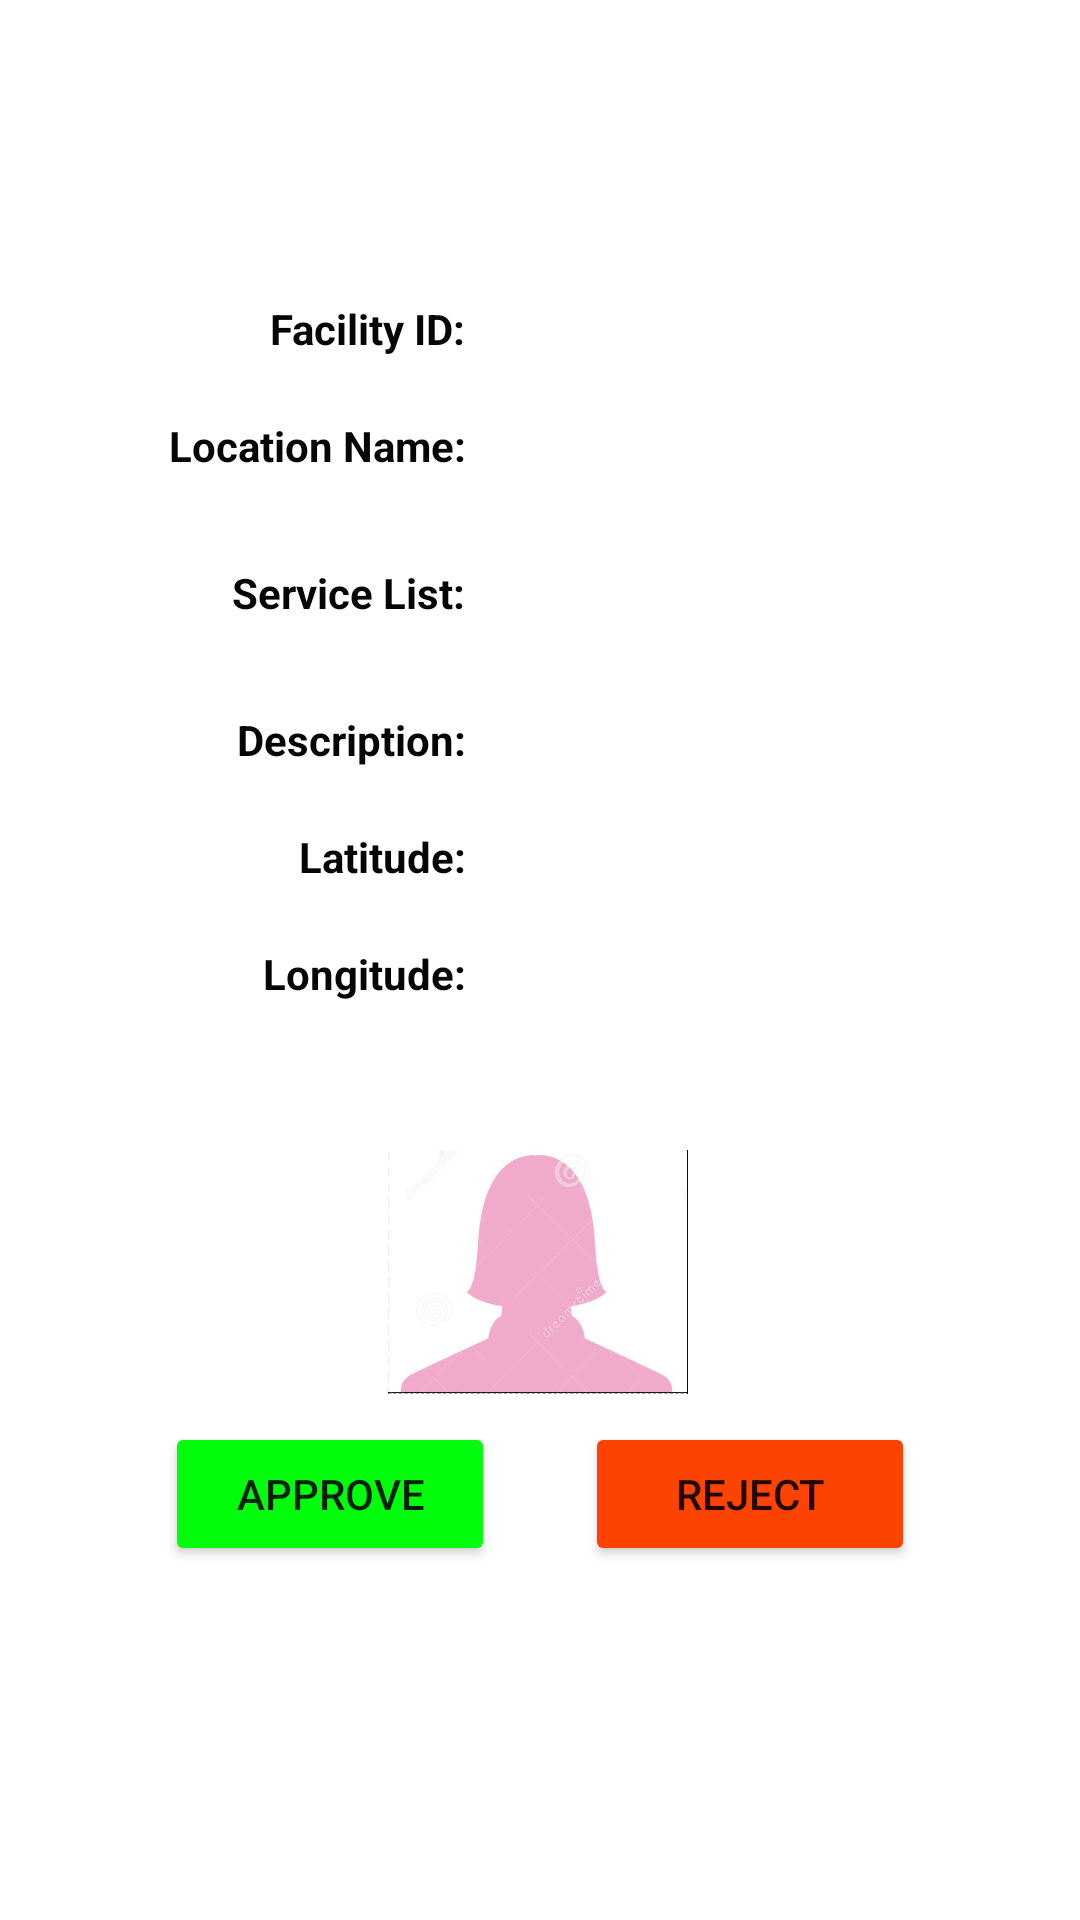

Named icons in this screenshot (1080px×1920px) and their bounding boxes, bbox(x1, y1, x2, y2):
female: bbox(388, 1150, 688, 1394)
